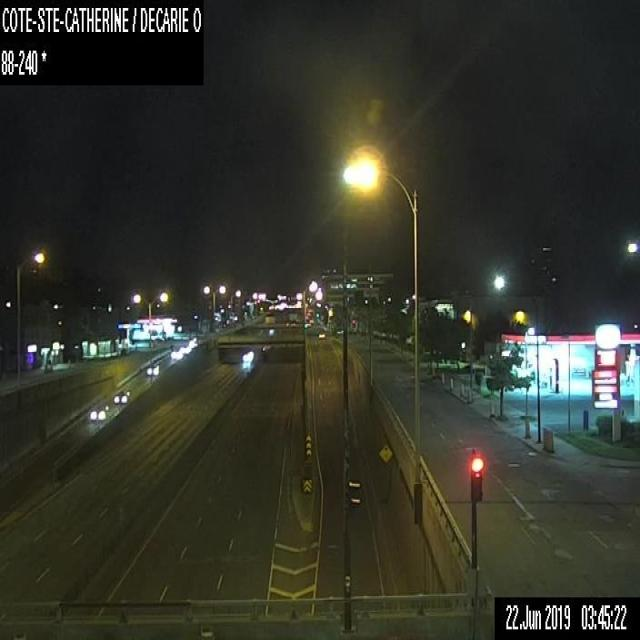vehicle: (90, 404, 108, 421), (112, 391, 128, 404), (146, 363, 158, 375), (318, 331, 324, 339)
